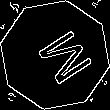M_SW: (21, 22, 89, 88)
